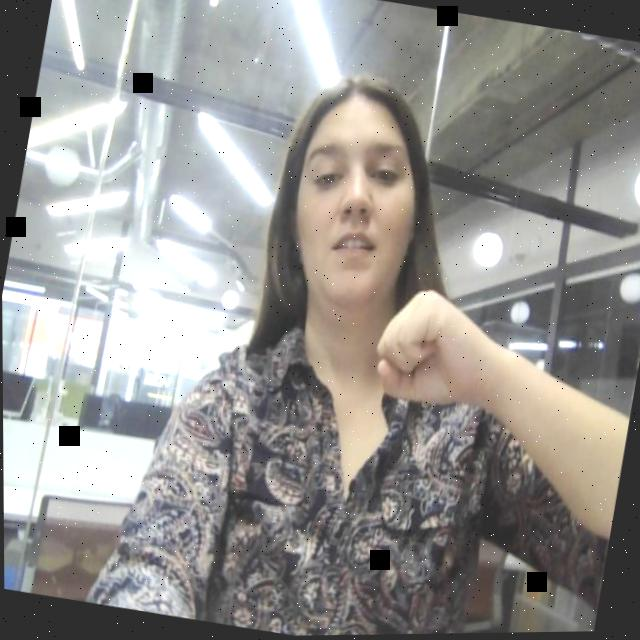Rock: (364, 278, 492, 419)
